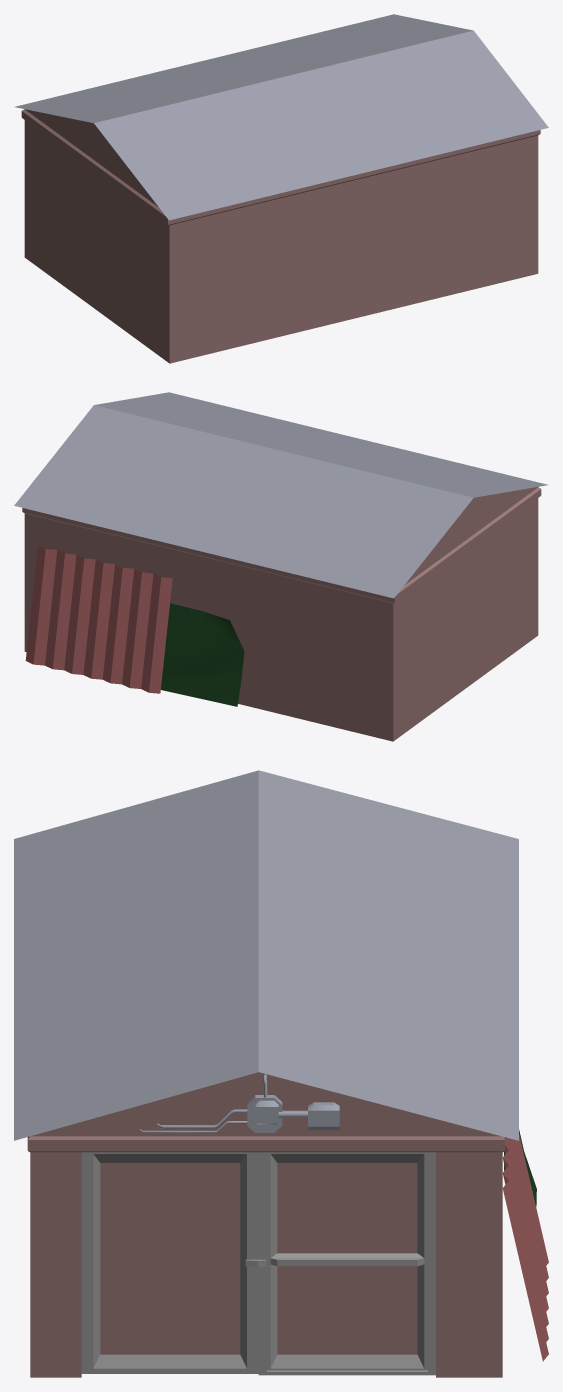
File: Garage4.fbx
The picture shows the model from 3 angles, top to bottom: view 1: azimuth 30°, elevation 25°; view 2: azimuth 150°, elevation 25°; view 3: azimuth 270°, elevation 25°; orthographic projection. The views are drawn at different scales.
Parts seen in each view (by area): view 1: garage 3; view 2: garage 3, metalSheet1, metalSheet2; view 3: garage 3, garage3door2, garage3door1, metalSheet1, Provodka4.
Boxes of the visible parts, x1,y1,x2,y2 form: garage 3: [15, 14, 548, 363]; garage 3: [14, 392, 547, 741]; metalSheet1: [25, 545, 172, 693]; metalSheet2: [161, 603, 244, 706]; garage 3: [14, 770, 518, 1377]; garage3door2: [245, 1152, 435, 1375]; garage3door1: [81, 1152, 258, 1373]; metalSheet1: [502, 1134, 548, 1361]; Provodka4: [139, 1074, 339, 1132].
Size of the model in its own units: 607 by 290 by 453.
